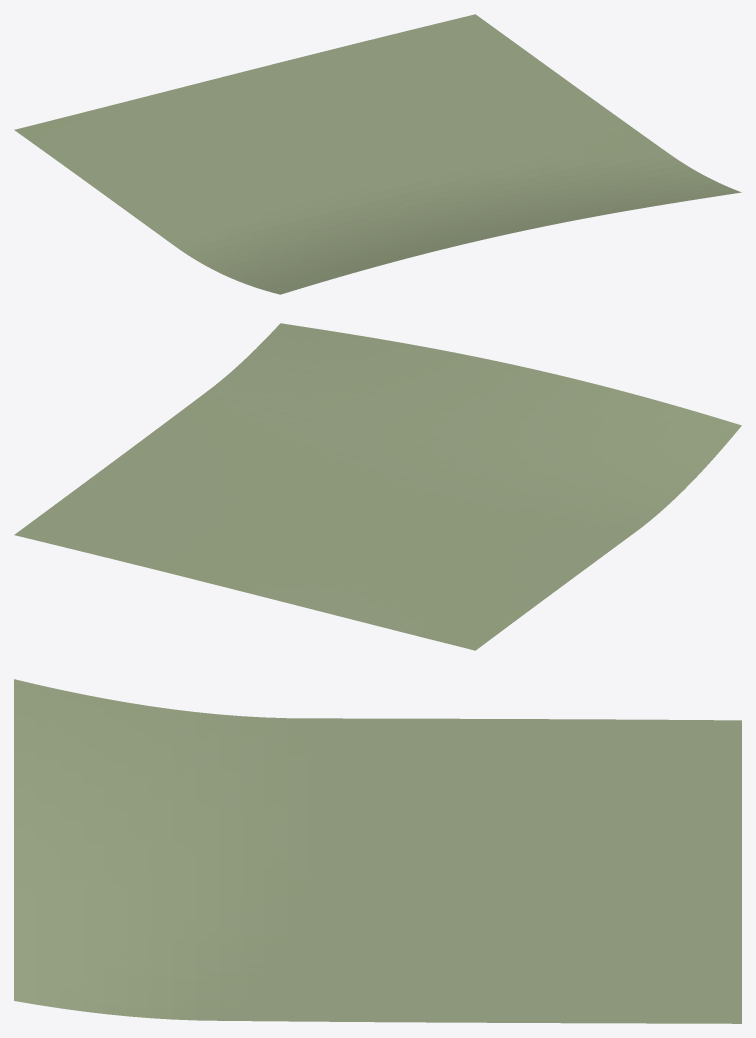
The model's file is desert-20-14.glb.
The picture shows the model from 3 angles, top to bottom: view 1: azimuth 30°, elevation 25°; view 2: azimuth 150°, elevation 25°; view 3: azimuth 270°, elevation 25°; orthographic projection. The views are drawn at different scales.
Visible parts, largest first — view 1: desert-20-14; view 2: desert-20-14; view 3: desert-20-14.
Part boxes in pixels (x1,y1,x2,y2): desert-20-14: (14,14,741,294); desert-20-14: (14,323,741,650); desert-20-14: (14,679,741,1023).
Size of the model in its own units: 512 by 38.12 by 512.
